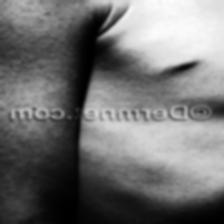Toxin: (0, 0, 83, 105), (0, 124, 81, 224)
